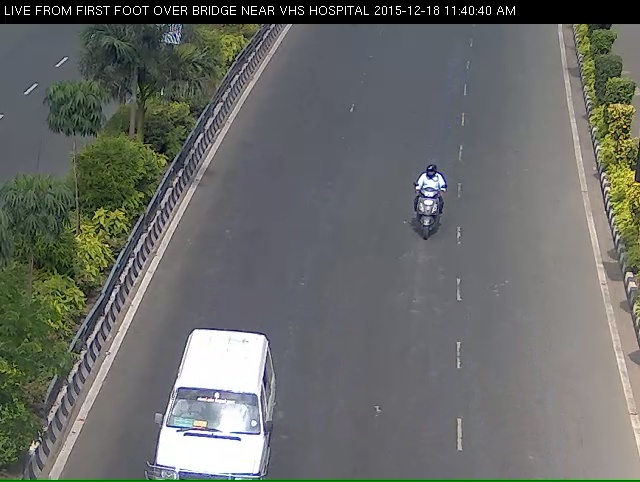Car: (152, 356, 268, 482)
Person: (409, 182, 443, 263)
